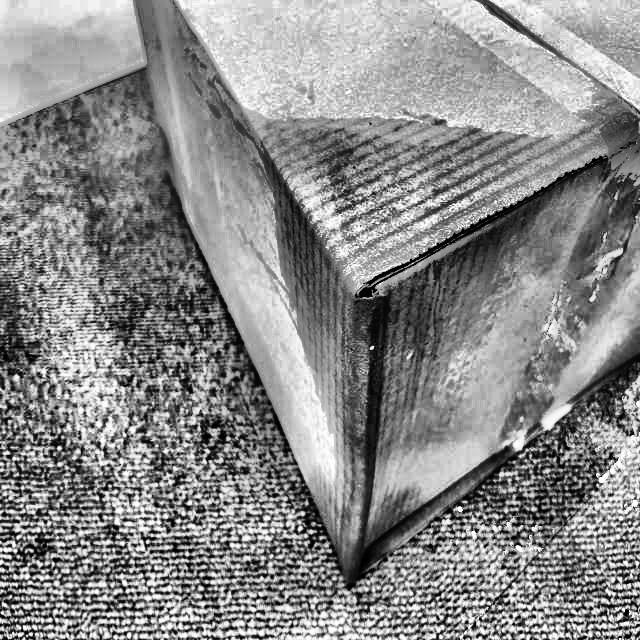box: (134, 0, 639, 597)
wet: (208, 93, 640, 581)
